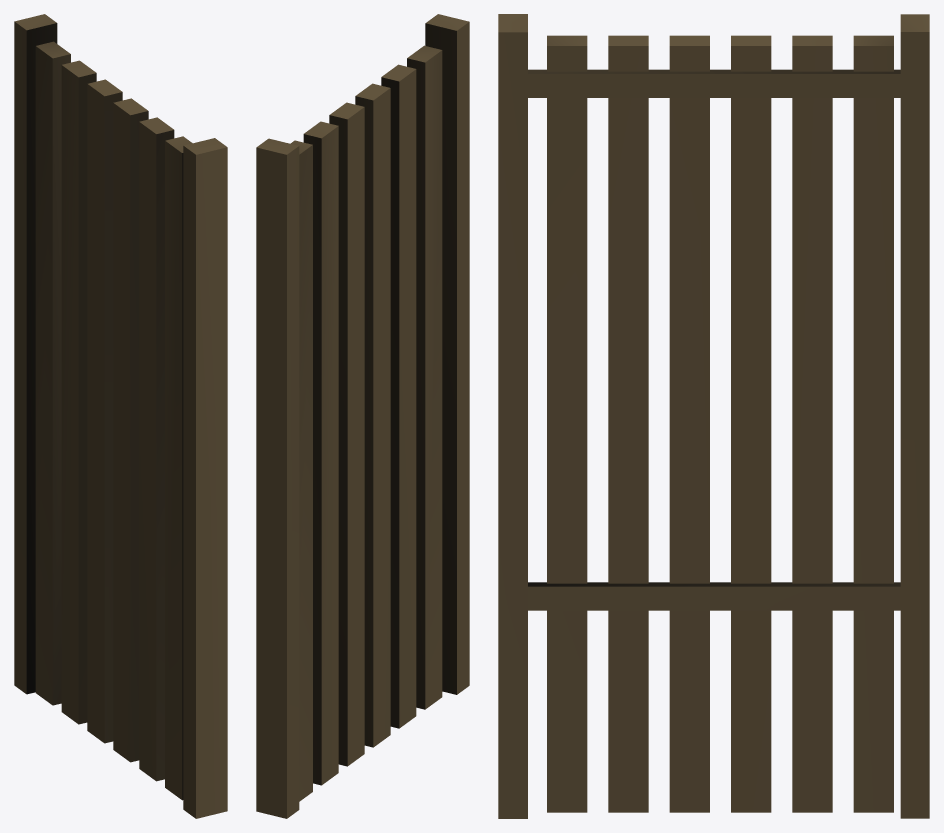
Rendered from Wood_Fence_Dence_Tall_Gate.fbx.
3 views of the same model, side by side, from view 1: azimuth 30°, elevation 25°; view 2: azimuth 150°, elevation 25°; view 3: azimuth 270°, elevation 25° (orthographic). The views are drawn at different scales.
Parts seen in each view (by area): view 1: Wood_Fence_Dence_Tall_Gate; view 2: Wood_Fence_Dence_Tall_Gate; view 3: Wood_Fence_Dence_Tall_Gate.
Boxes of the visible parts, x1,y1,x2,y2 form: Wood_Fence_Dence_Tall_Gate: (14, 14, 227, 818); Wood_Fence_Dence_Tall_Gate: (256, 14, 469, 818); Wood_Fence_Dence_Tall_Gate: (498, 14, 929, 818).
Bounding box in the file's own units: 0.00758 × 0.1529 × 0.076.
